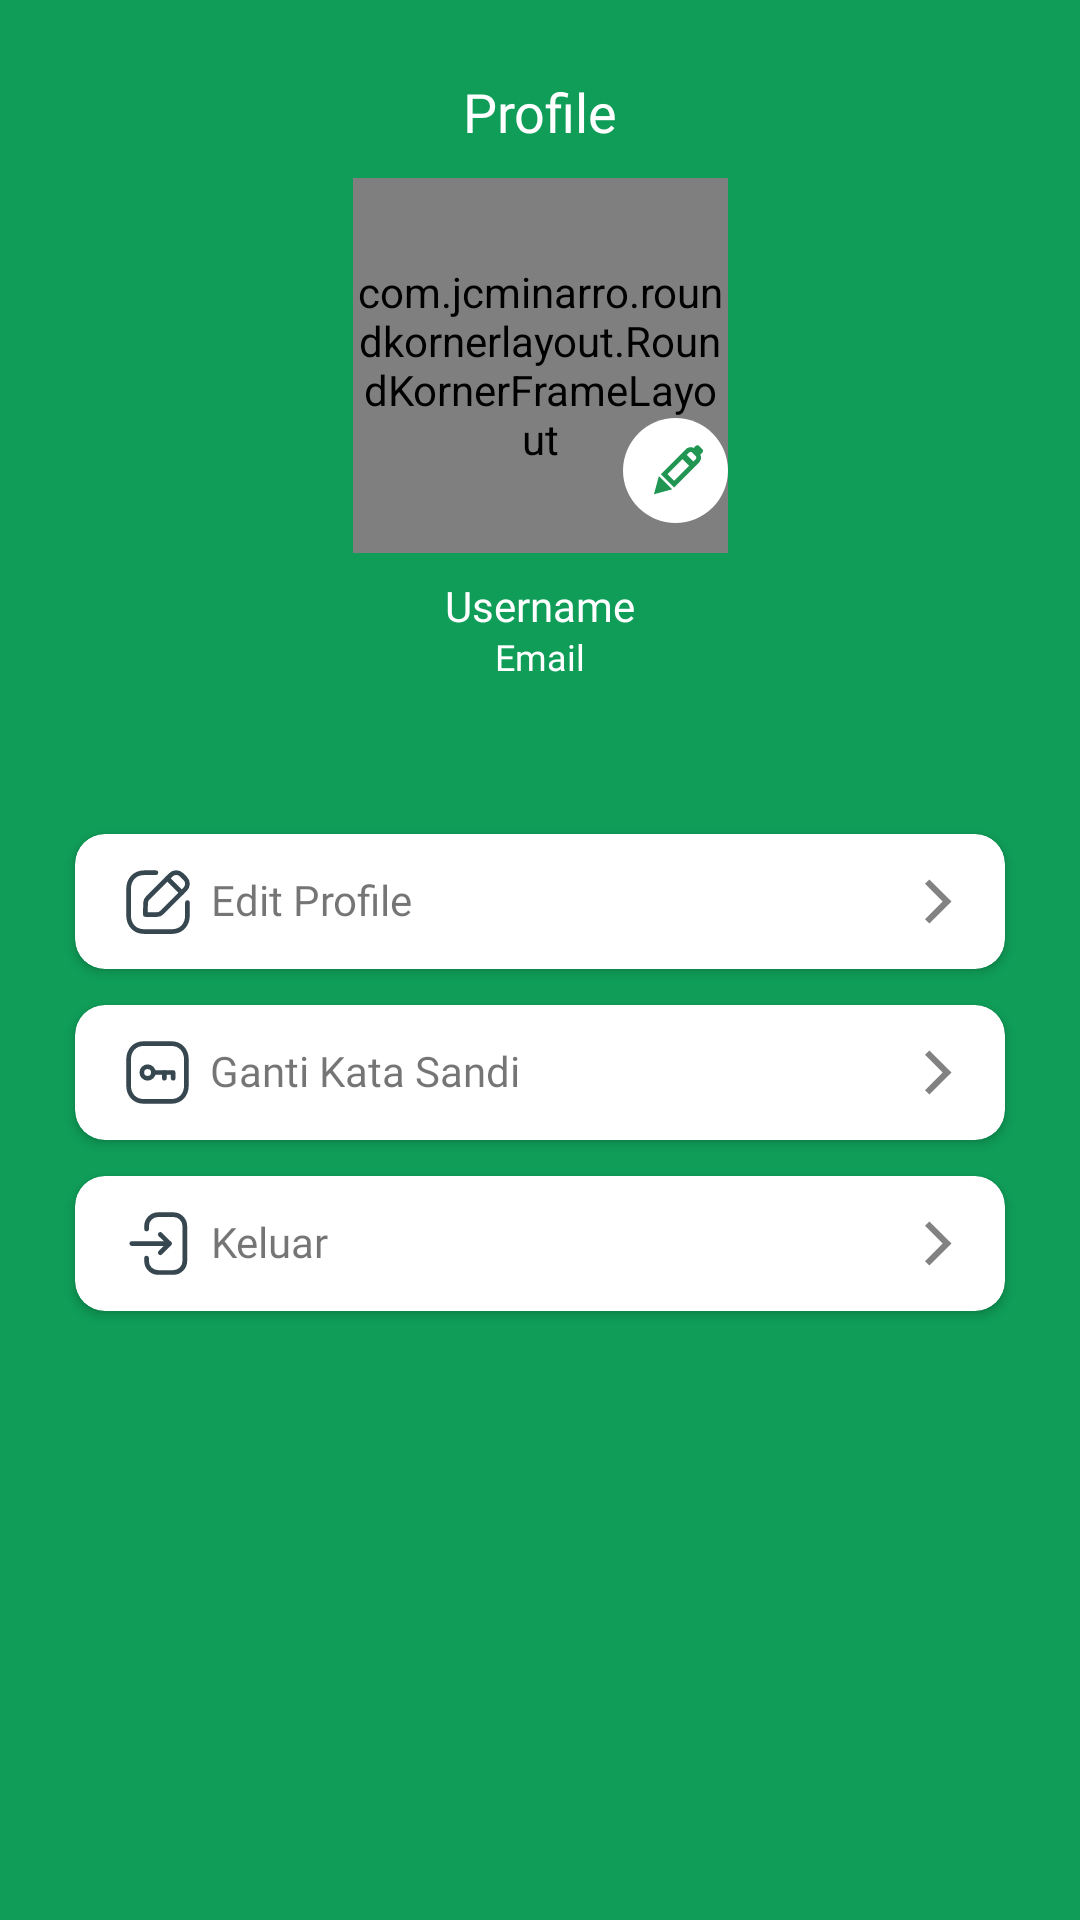

Icons on this 1080x1920 Android screen, each with the point to tap as [x,y]:
arrow right: [938,901], [938,1072], [938,1243]
edit: [675,470]
edit pass: [157,1072]
sign out: [158,1243]
